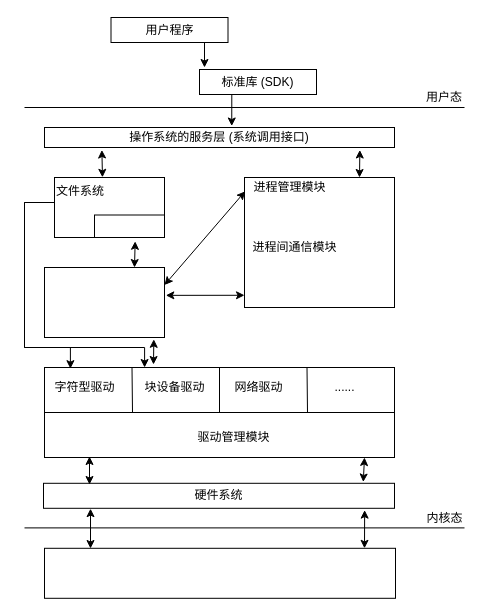
The diagram is 487 pixels wide and 616 high, and some of its shapes have lost their labels. Here are the shapes that lost their labels. From the top down, the centre of each, then its label:
(x=129, y=226): 高速缓存
(x=104, y=302): 内存管理模块
(x=220, y=572): 硬件
